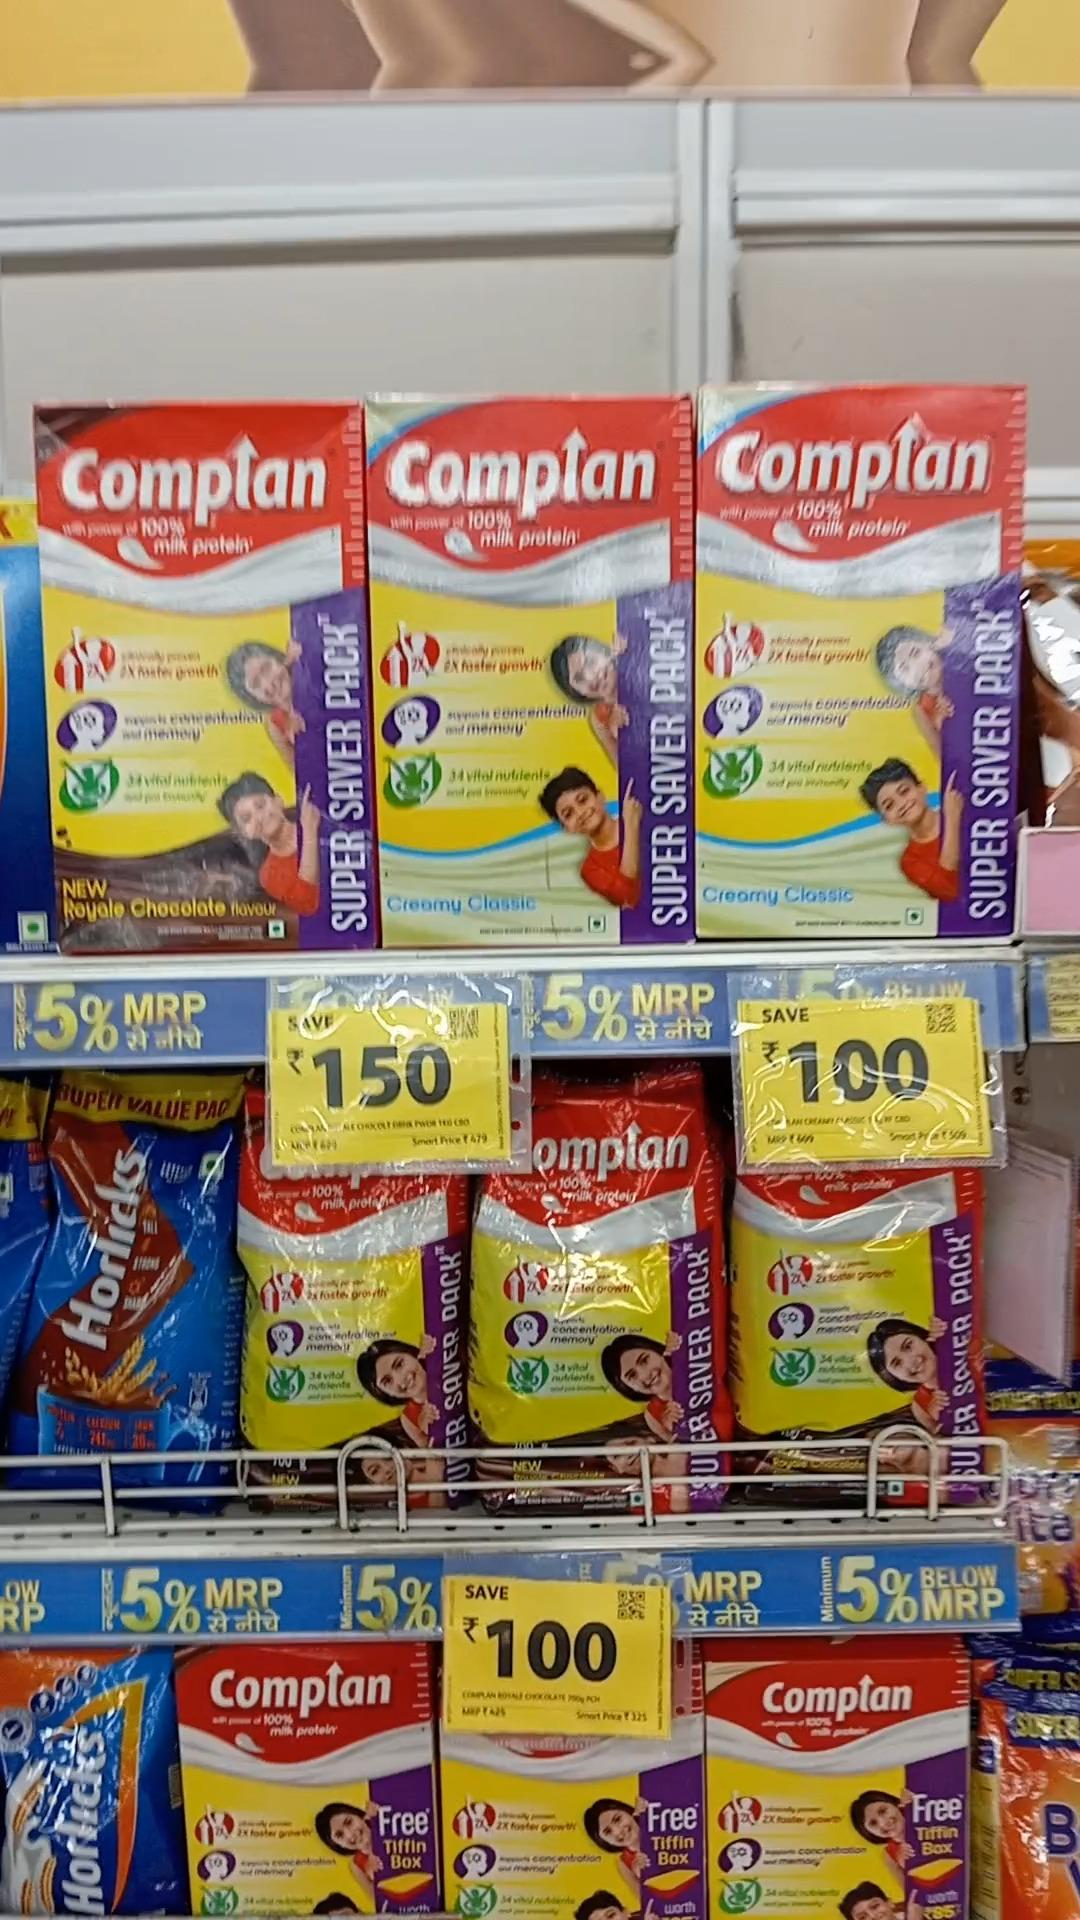COMPLAN_CHOCOLATE_1_KG_PACK: (58, 401, 369, 940)
COMPLAN_CHOCOLATE_500_GMS_PACK: (193, 1647, 434, 1916)
COMPLAN_KESAR_BADAM_500_GMS_PACK: (716, 1626, 969, 1920)
COMPLAN_RC_POUCH_700_GMS_12: (735, 1137, 990, 1499), (487, 1092, 724, 1480), (248, 1116, 468, 1507)
HORLICK_CHOCOLATE_750_G_POUCH: (37, 1085, 233, 1464)
HORLICK_CLASSIC_MALT_750_G_POUCH: (0, 1656, 181, 1911)
